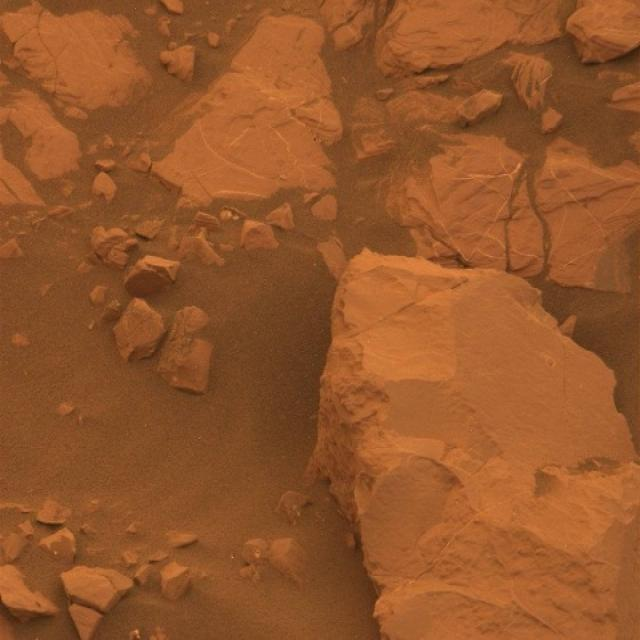mars-rocks: (157, 307, 213, 394), (60, 567, 133, 614), (113, 298, 166, 362), (1, 567, 58, 622), (124, 256, 180, 296)
